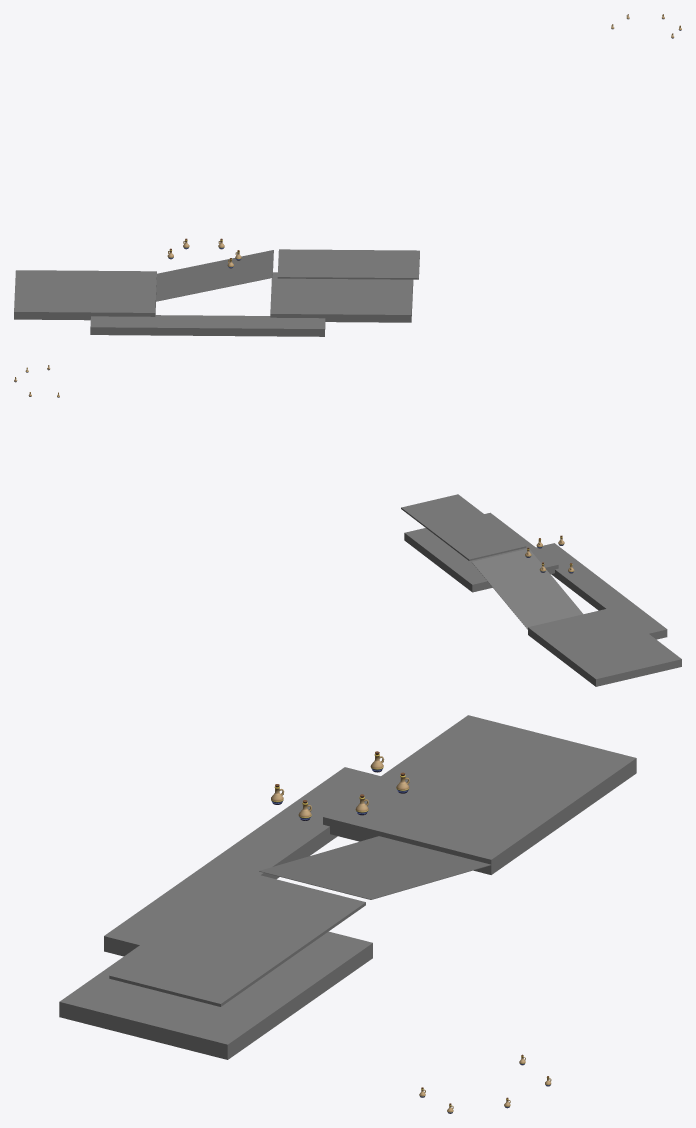
File: PrefabBalance.fbx
The picture shows the model from 3 angles, top to bottom: view 1: azimuth 30°, elevation 25°; view 2: azimuth 150°, elevation 25°; view 3: azimuth 270°, elevation 25°; orthographic projection. The views are drawn at different scales.
Visible parts, largest first — view 1: block_test_1, block_test, block_test_002, block_test_001, Platform1; view 2: block_test_1, Platform1, block_test_001, block_test_002, block_test; view 3: block_test_1, block_test, block_test_001, block_test_002, Platform1.
Boxes of the visible parts, x1,y1,x2,y2 form: block_test_1: (14,270,156,320); block_test: (270,272,413,322); block_test_002: (90,315,325,336); block_test_001: (277,249,419,279); Platform1: (156,250,273,301); block_test_1: (528,607,681,686); Platform1: (472,549,583,629); block_test_001: (401,494,526,560); block_test_002: (536,543,667,639); block_test: (404,512,558,592); block_test_1: (323,715,636,874); block_test: (59,900,372,1059); block_test_001: (109,874,365,1006); block_test_002: (104,767,380,956); Platform1: (259,836,490,899).
Size of the model in its own units: 8990 by 1826 by 3401.
2 materials, 1 textured.
